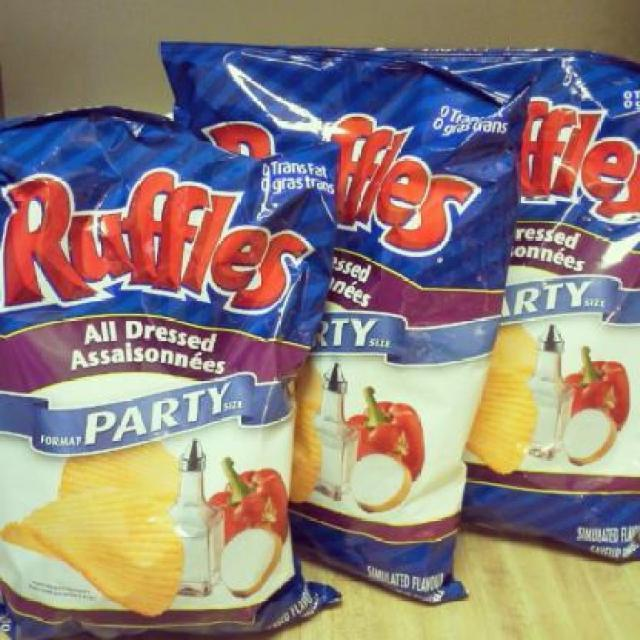Chips: (156, 36, 522, 626), (9, 115, 320, 640), (390, 23, 636, 568)
